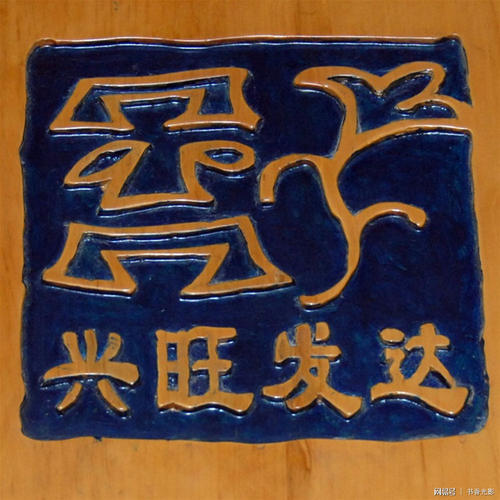chinese: (40, 323, 471, 419)
naxi: (41, 61, 466, 304)
